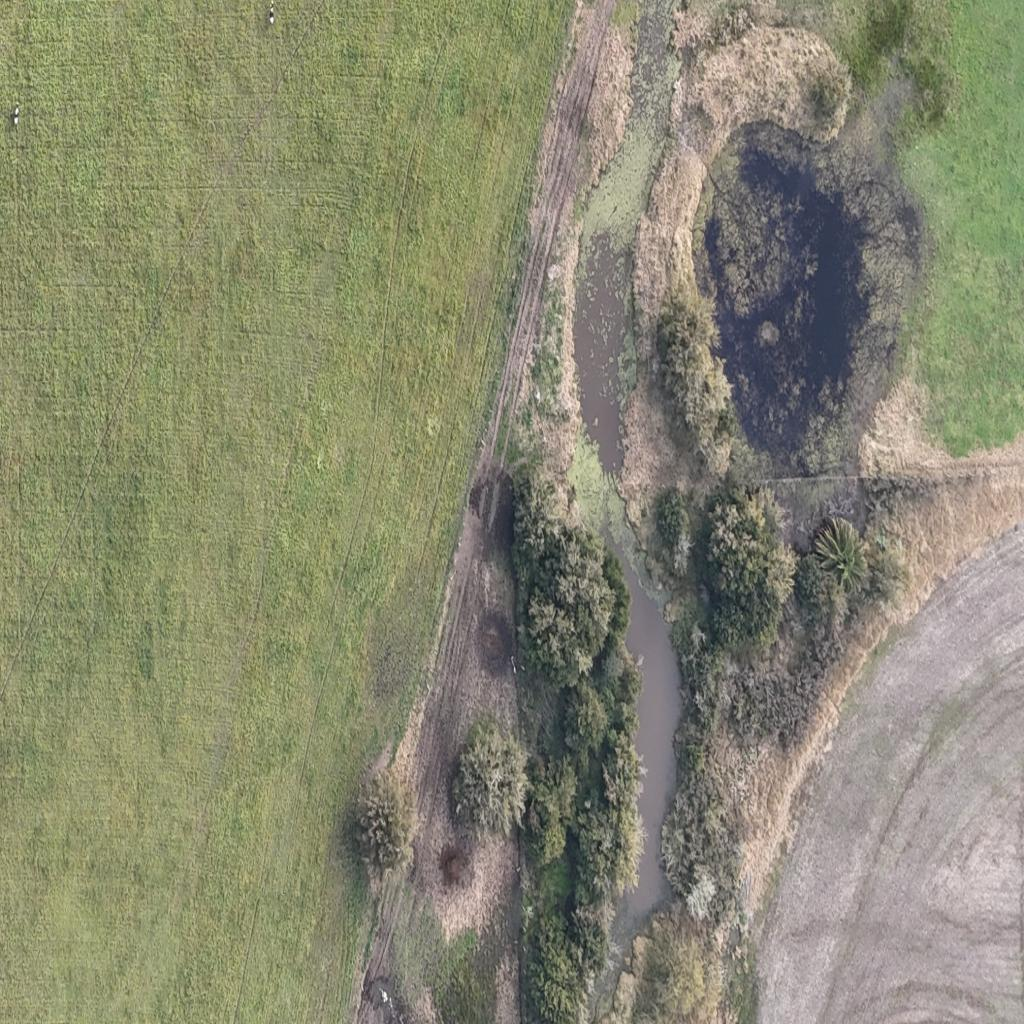cow: (269, 4, 275, 26), (14, 105, 20, 126)
